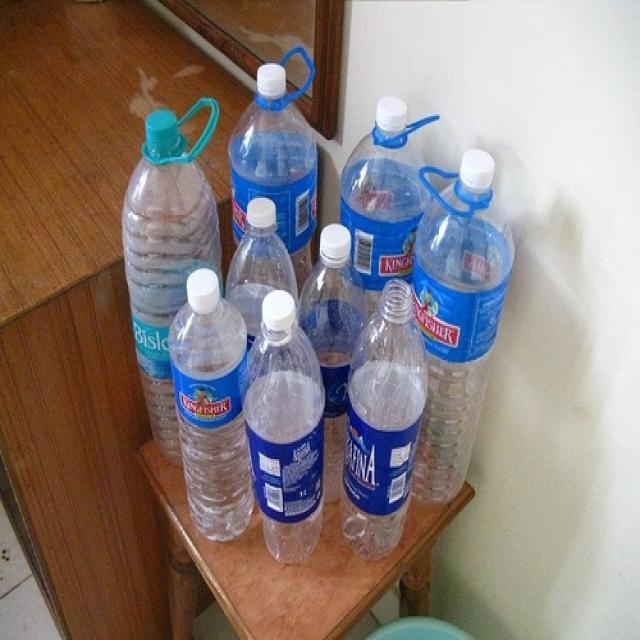Plastics: (96, 50, 532, 562)
